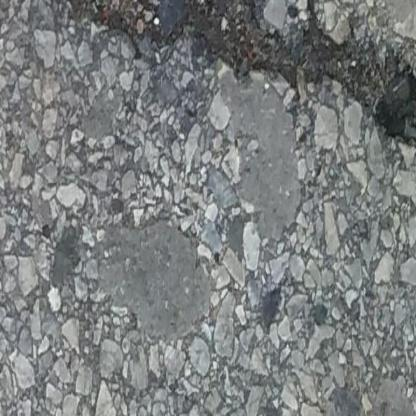Cracks: (20, 0, 416, 186)
